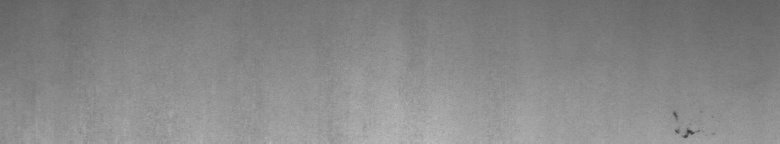fi: (673, 111, 704, 136)
